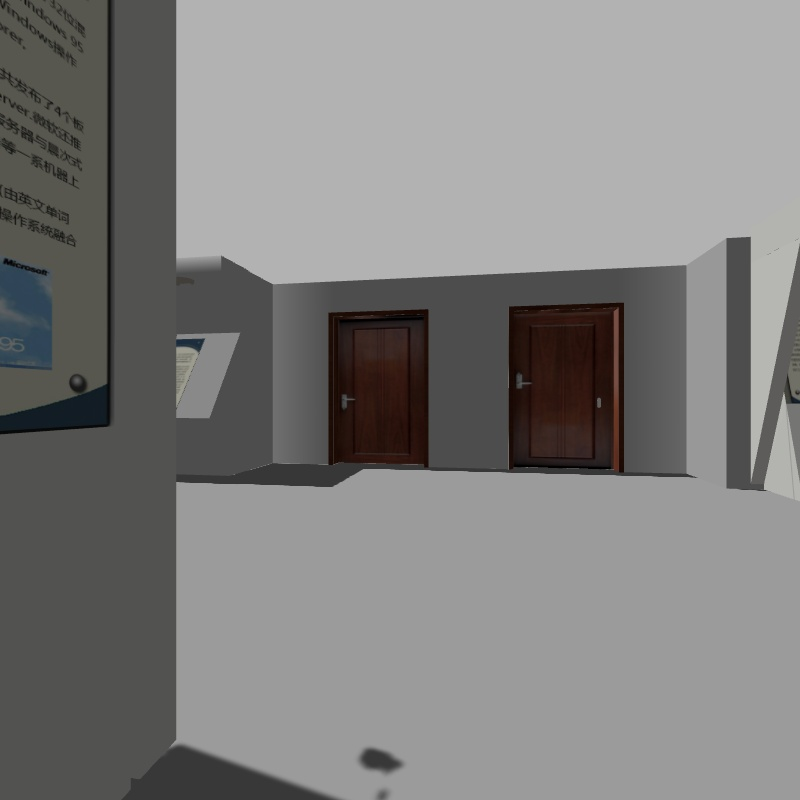handle: (506, 367, 537, 392), (335, 387, 357, 407)
